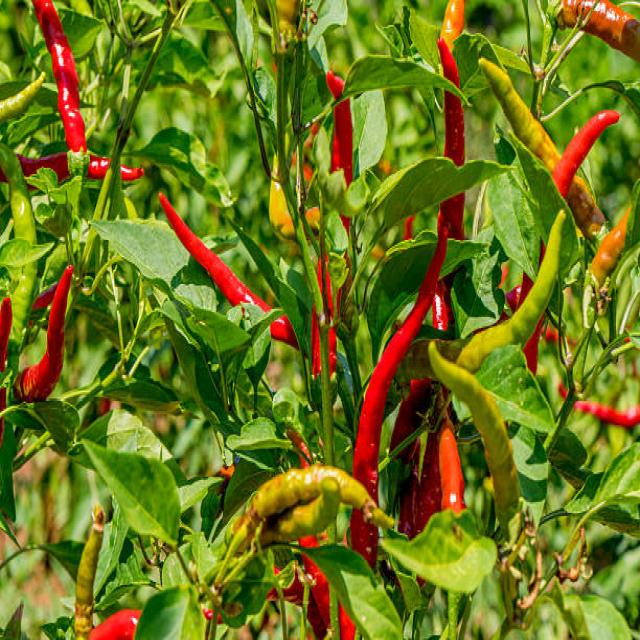Ripe: (349, 216, 448, 565), (159, 194, 269, 312), (15, 264, 72, 402), (33, 0, 85, 151), (552, 112, 620, 196), (438, 33, 464, 231), (327, 67, 352, 185), (89, 609, 141, 640)
Unripe: (479, 58, 612, 244), (456, 210, 566, 372), (429, 343, 520, 535), (226, 464, 393, 558), (0, 142, 38, 340), (75, 504, 104, 639), (590, 206, 631, 286)
